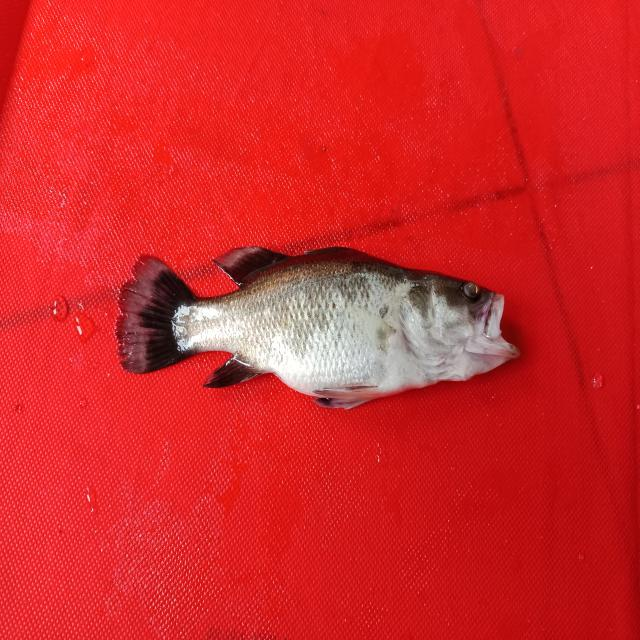ikan: (98, 211, 557, 431)
